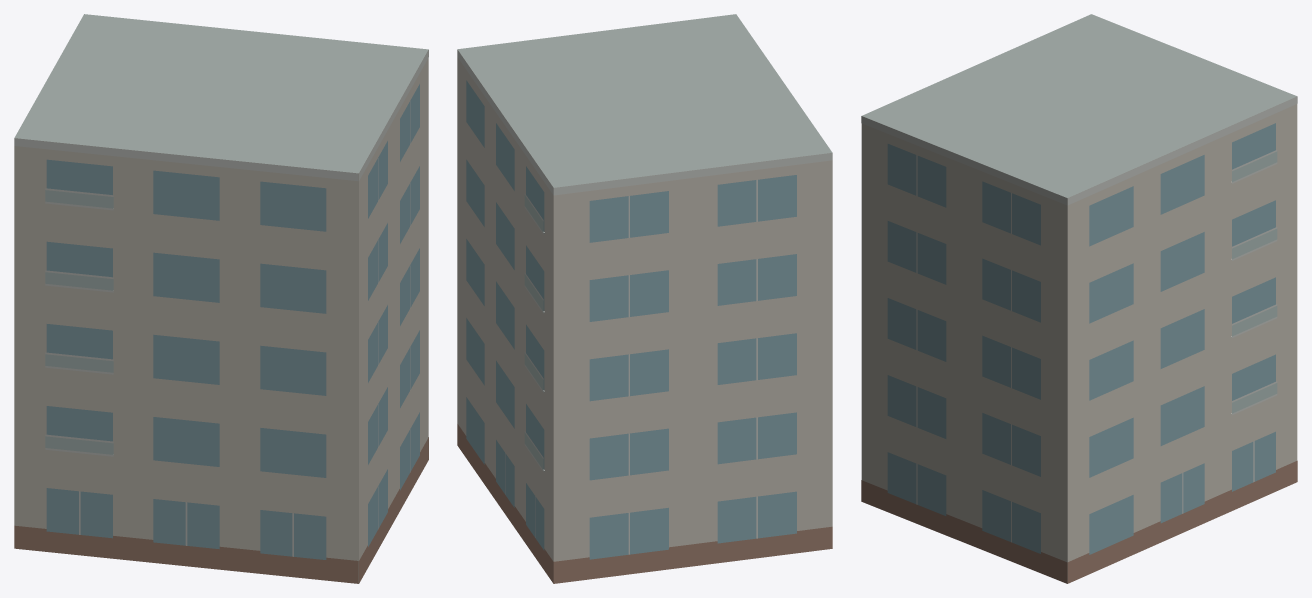
Rendered from survey-upis-32668152.glb.
3 renders of one model, left to right at view 1: azimuth 30°, elevation 25°; view 2: azimuth 150°, elevation 25°; view 3: azimuth 270°, elevation 25°, orthographic. The views are drawn at different scales.
Parts seen in each view (by area): view 1: survey-upis-32668152.tmp; view 2: survey-upis-32668152.tmp; view 3: survey-upis-32668152.tmp.
Boxes of the visible parts, <box> form: survey-upis-32668152.tmp: <box>14,14,428,583</box>; survey-upis-32668152.tmp: <box>457,14,832,583</box>; survey-upis-32668152.tmp: <box>861,14,1297,583</box>.
Size of the model in its own units: 13.01 by 12.7 by 13.02.
